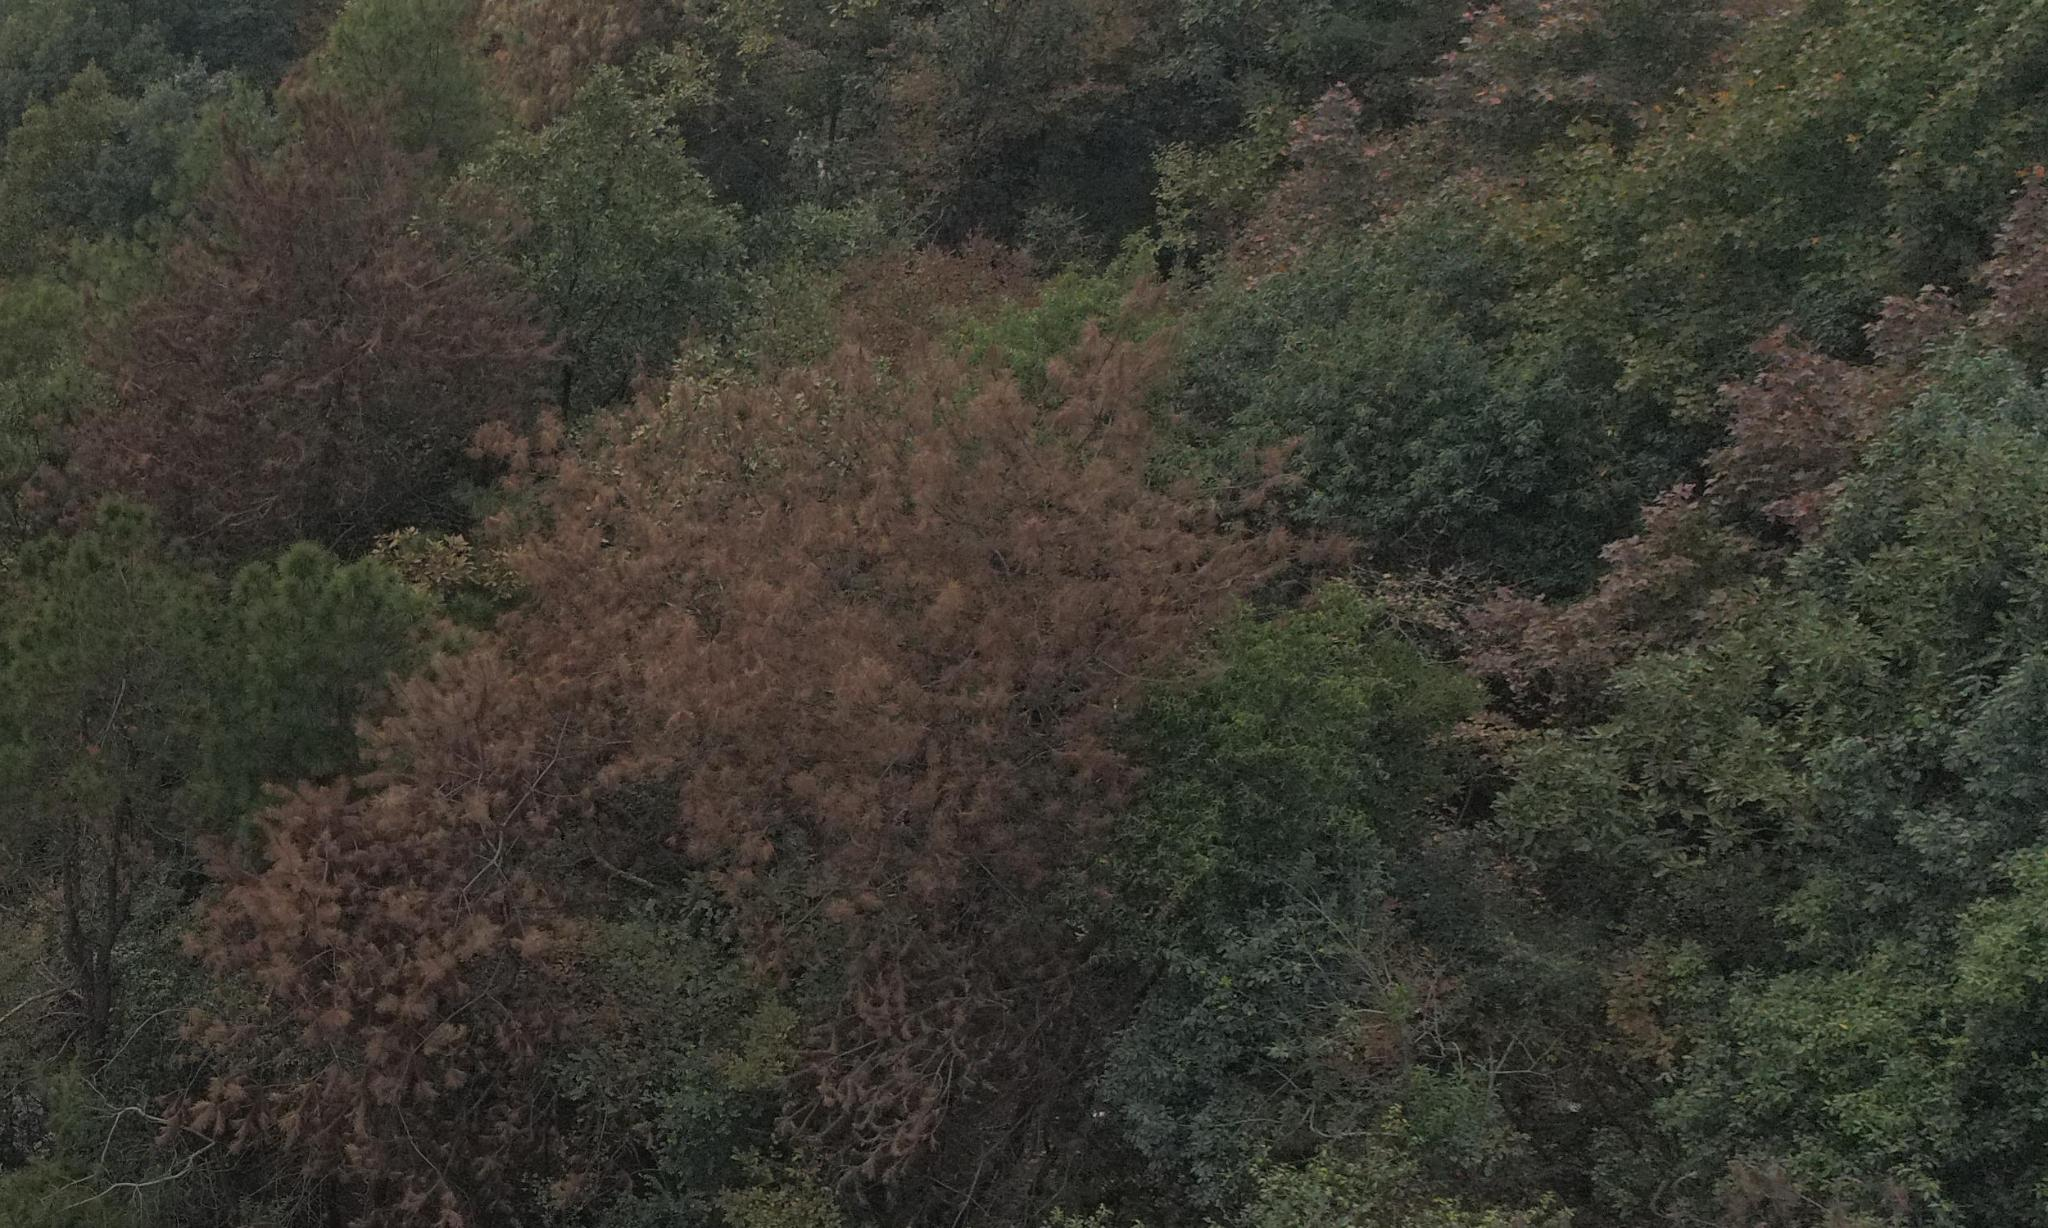heavy: (424, 304, 1396, 1006), (117, 664, 743, 1228), (77, 95, 630, 550)
